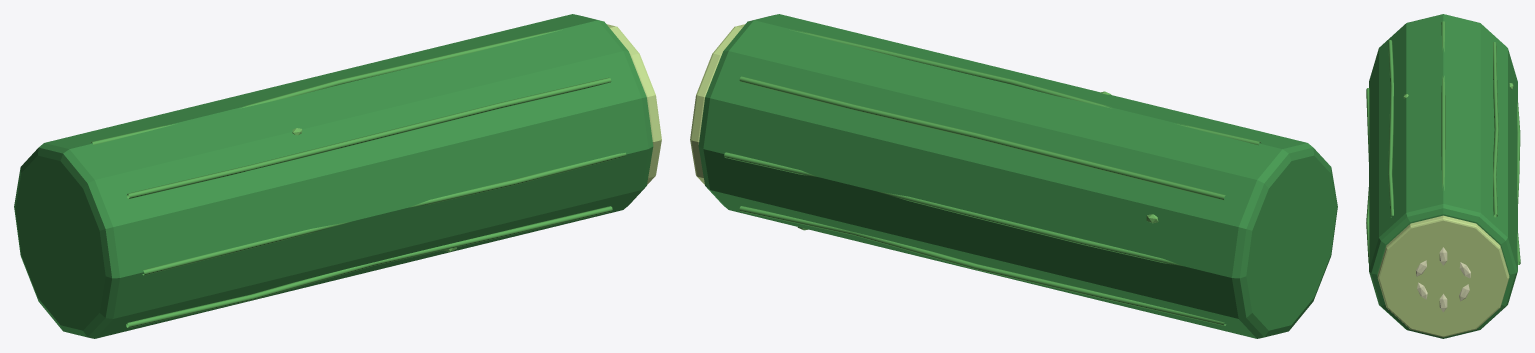
File: cucumber.glb
The picture shows the model from 3 angles, left to right: view 1: azimuth 30°, elevation 25°; view 2: azimuth 150°, elevation 25°; view 3: azimuth 270°, elevation 25°; orthographic projection. The views are drawn at different scales.
Parts seen in each view (by area): view 1: cucumber_body, skin_ridge_3, skin_ridge_5, skin_ridge_4, skin_ridge_2, cucumber_cut; view 2: cucumber_body, skin_ridge_1, skin_ridge_7, skin_ridge_0, skin_ridge_2, cucumber_cut; view 3: cucumber_body, cucumber_cut, skin_ridge_3, skin_ridge_1, skin_ridge_2, skin_ridge_4, skin_ridge_0.
Part boxes in pixels (box(x1,y1,x2,y2)): cucumber_body: box(14, 14, 653, 338); skin_ridge_3: box(126, 77, 611, 198); skin_ridge_5: box(126, 206, 612, 327); skin_ridge_4: box(142, 152, 626, 275); skin_ridge_2: box(91, 29, 562, 145); cucumber_cut: box(606, 24, 661, 184); cucumber_body: box(698, 14, 1337, 338); skin_ridge_1: box(739, 76, 1225, 200); skin_ridge_7: box(739, 206, 1226, 325); skin_ridge_0: box(724, 152, 1182, 265); skin_ridge_2: box(789, 29, 1260, 145); cucumber_cut: box(690, 24, 745, 184); cucumber_body: box(1369, 14, 1517, 338); cucumber_cut: box(1377, 215, 1509, 337); skin_ridge_3: box(1388, 40, 1393, 217); skin_ridge_1: box(1493, 42, 1498, 217); skin_ridge_2: box(1441, 21, 1445, 190); skin_ridge_4: box(1366, 88, 1369, 263); skin_ridge_0: box(1517, 100, 1520, 264).
Size of the model in its own units: 0.4984 by 0.1614 by 0.162.
